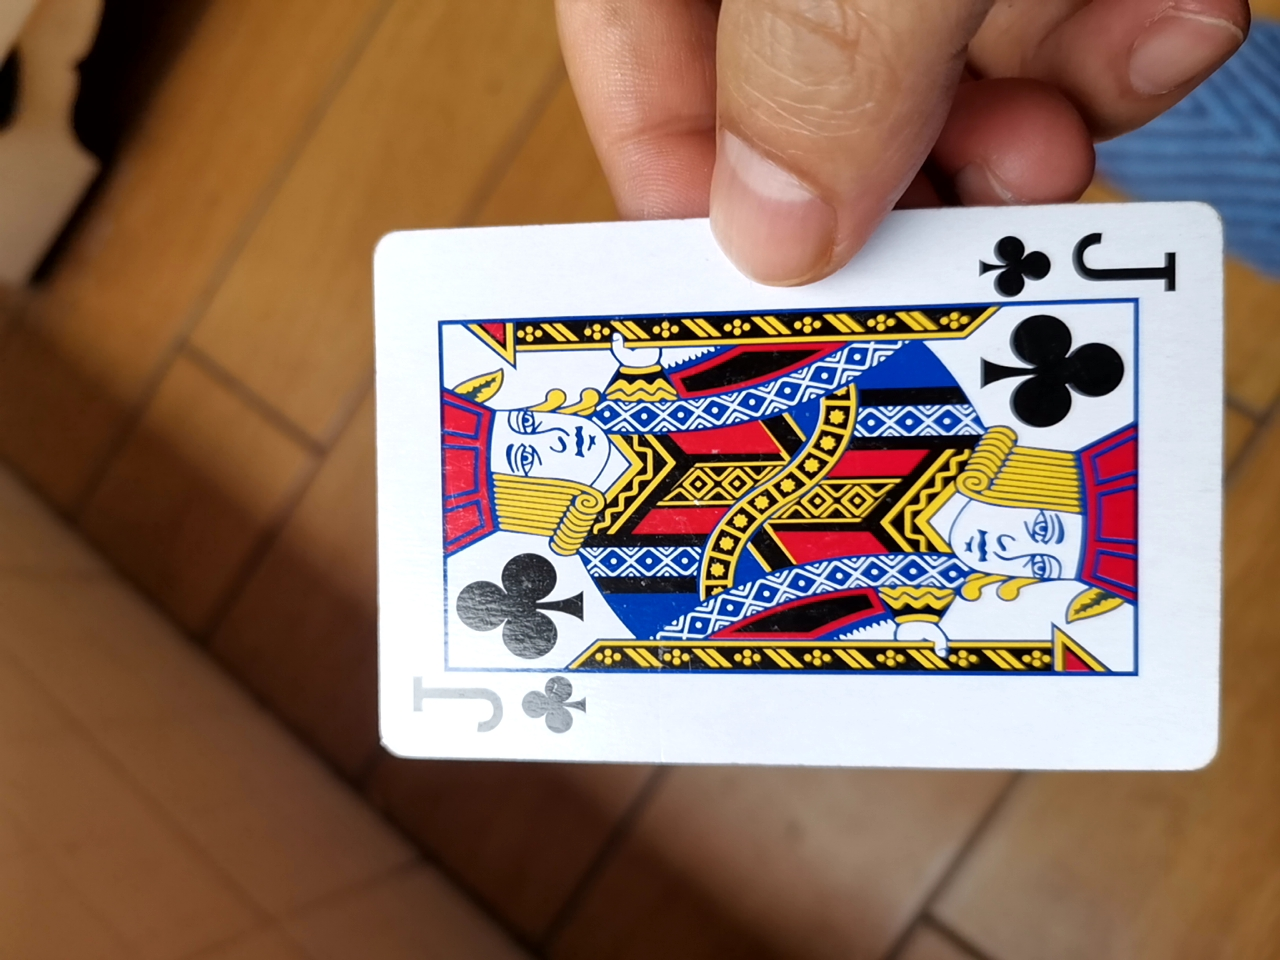mh j: (336, 183, 1208, 775)
